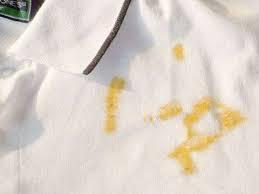lipstick: (103, 75, 121, 134), (172, 145, 196, 178), (153, 106, 184, 126), (192, 135, 230, 151), (218, 107, 245, 128), (182, 122, 202, 147), (189, 99, 215, 118), (171, 40, 187, 69)
